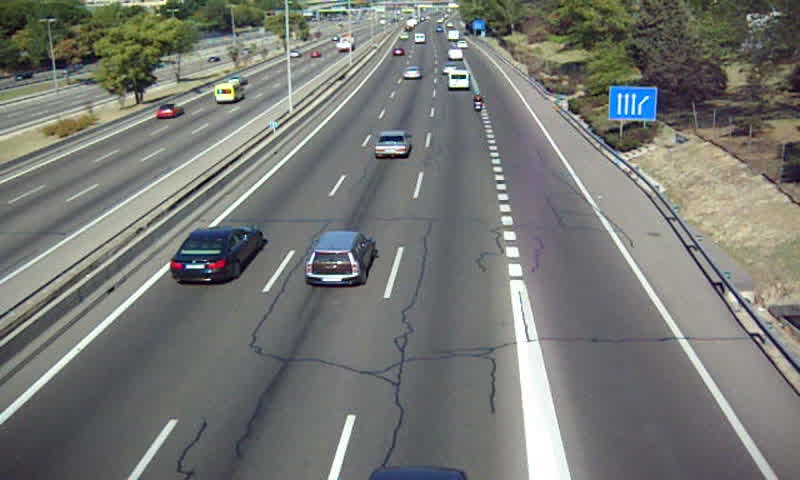car: (170, 226, 262, 282), (304, 231, 375, 285), (374, 130, 411, 156), (403, 65, 421, 79)
motorcycle: (473, 92, 485, 112)
van: (448, 69, 470, 90), (449, 49, 465, 61)
